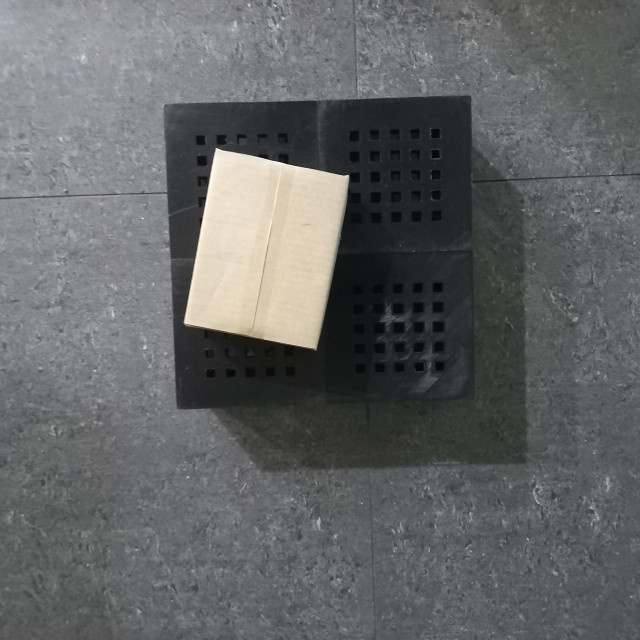box: (180, 145, 355, 360)
pallet: (163, 88, 476, 417)
